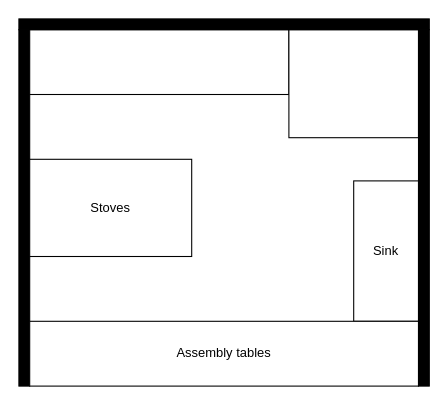
The diagram is 448 pixels wide and 405 high, and some of its shapes have lost their labels. Here are the shapes that lost their labels. From the top down, the centre of each, then its label:
At point 159,61: "Pantry".
At point 353,83: "Refrigerators".
